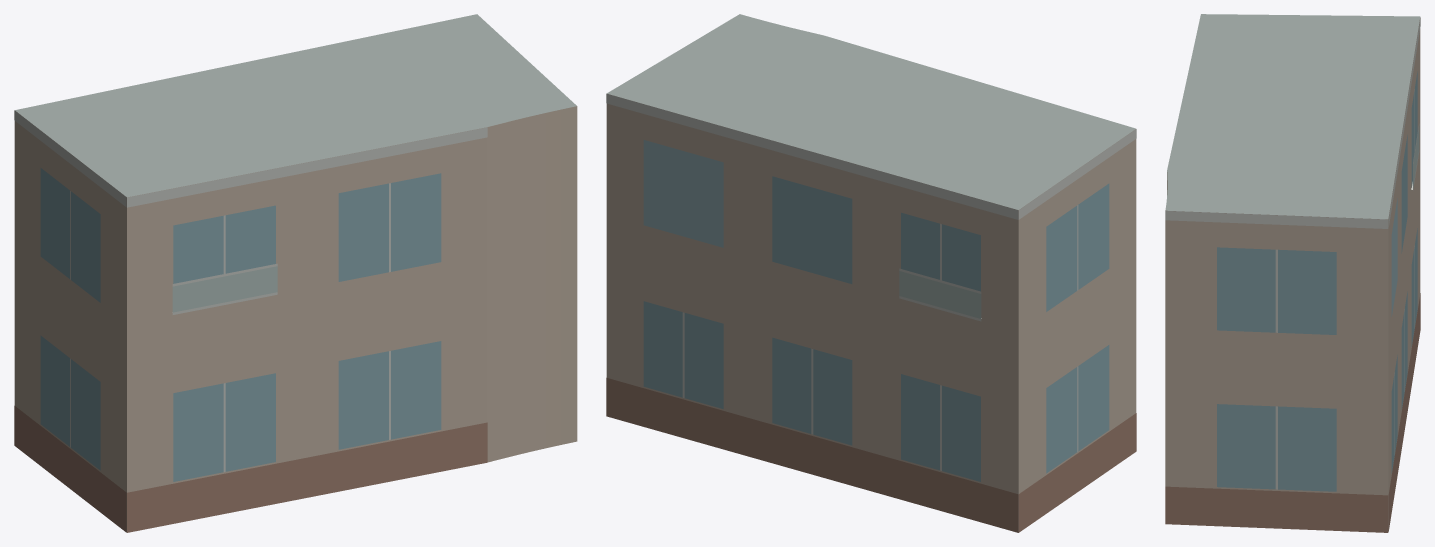
The model's file is survey-upis-32983090.glb.
3 renders of one model, left to right at view 1: azimuth 30°, elevation 25°; view 2: azimuth 150°, elevation 25°; view 3: azimuth 270°, elevation 25°, orthographic. The views are drawn at different scales.
Parts seen in each view (by area): view 1: survey-upis-32983090.tmp; view 2: survey-upis-32983090.tmp; view 3: survey-upis-32983090.tmp.
Boxes of the visible parts, bbox=[...] form: survey-upis-32983090.tmp: bbox=[14, 14, 577, 532]; survey-upis-32983090.tmp: bbox=[606, 14, 1136, 532]; survey-upis-32983090.tmp: bbox=[1165, 14, 1420, 532].
Size of the model in its own units: 11.19 by 7.95 by 5.87.
